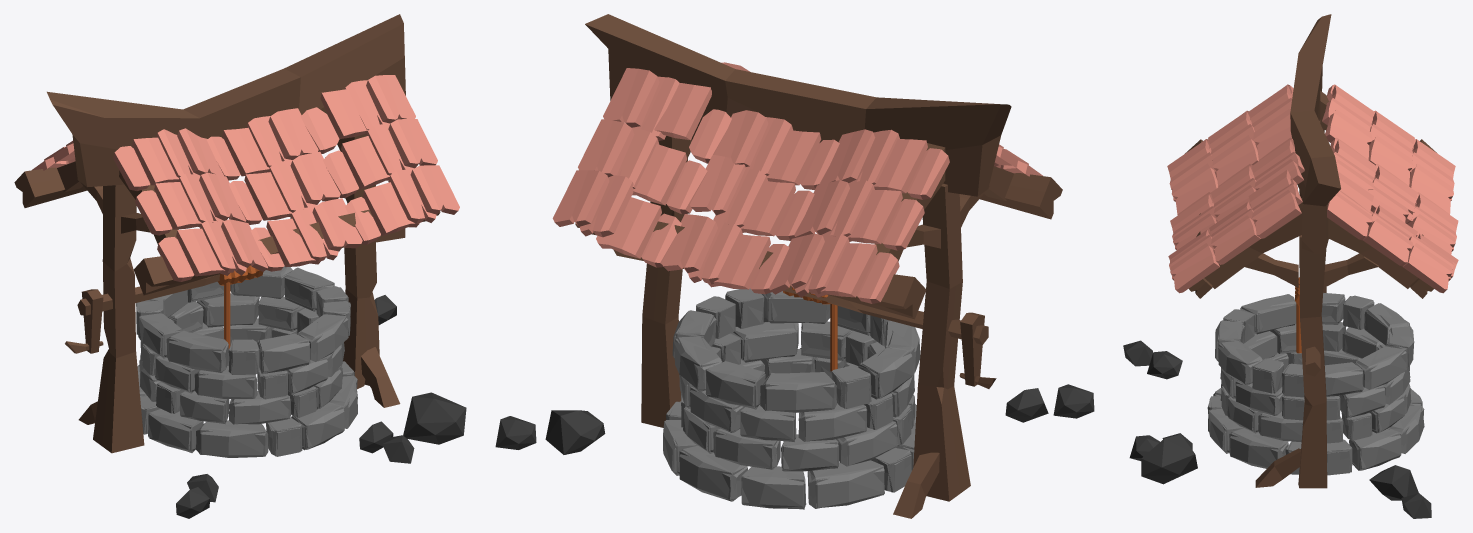
File: well.glb
The picture shows the model from 3 angles, left to right: view 1: azimuth 30°, elevation 25°; view 2: azimuth 150°, elevation 25°; view 3: azimuth 270°, elevation 25°; orthographic projection. The views are drawn at different scales.
Visible parts, largest first — view 1: Cube.019, Cube.004, Cube.006, Cube.002, Cube, Cube.001, Cube.005, Cube.007, Icosphere, Cube.039, Cube.051, Cube.031 (+42 smaller); view 2: Cube.019, Cube.004, Cube.002, Cube.006, Cube, Cube.001, Cube.005, Cube.007, Cube.055, Cube.028, Cube.052, Cube.027 (+41 smaller); view 3: Cube.004, Cube.019, Cube.002, Cube, Cube.005, Cube.001, Cube.008, Cube.031, Cube.043, Cube.055, Cube.035, Cube.023 (+32 smaller).
Boxes of the visible parts, left/top/right/bottom form: Cube.019: left=47, top=14, right=405, bottom=186; Cube.004: left=136, top=266, right=350, bottom=374; Cube.006: left=93, top=184, right=144, bottom=453; Cube.002: left=140, top=293, right=344, bottom=399; Cube: left=137, top=353, right=357, bottom=457; Cube.001: left=139, top=318, right=342, bottom=424; Cube.005: left=340, top=134, right=379, bottom=389; Cube.007: left=14, top=167, right=440, bottom=295; Icosphere: left=403, top=392, right=466, bottom=444; Cube.039: left=290, top=151, right=340, bottom=204; Cube.051: left=268, top=108, right=318, bottom=159; Cube.031: left=410, top=165, right=459, bottom=214; Cube.019: left=585, top=14, right=1011, bottom=196; Cube.004: left=672, top=288, right=920, bottom=412; Cube.002: left=679, top=321, right=914, bottom=441; Cube.006: left=913, top=183, right=970, bottom=501; Cube: left=663, top=401, right=916, bottom=509; Cube.001: left=681, top=349, right=914, bottom=471; Cube.005: left=641, top=136, right=688, bottom=427; Cube.007: left=575, top=173, right=1062, bottom=319; Cube.055: left=603, top=68, right=659, bottom=127; Cube.028: left=596, top=197, right=661, bottom=258; Cube.052: left=654, top=62, right=749, bottom=140; Cube.027: left=661, top=214, right=717, bottom=273; Cube.004: left=1215, top=293, right=1414, bottom=397; Cube.019: left=1290, top=14, right=1340, bottom=253; Cube.002: left=1220, top=322, right=1410, bottom=420; Cube: left=1207, top=388, right=1424, bottom=475; Cube.005: left=1298, top=235, right=1327, bottom=488; Cube.001: left=1220, top=348, right=1411, bottom=443; Cube.008: left=1204, top=91, right=1417, bottom=288; Cube.031: left=1170, top=243, right=1452, bottom=293; Cube.043: left=1211, top=215, right=1412, bottom=266; Cube.055: left=1251, top=189, right=1372, bottom=240; Cube.035: left=1212, top=135, right=1413, bottom=186; Cube.023: left=1171, top=163, right=1453, bottom=214.
Size of the model in its own units: 4.55 by 3.96 by 3.6.
